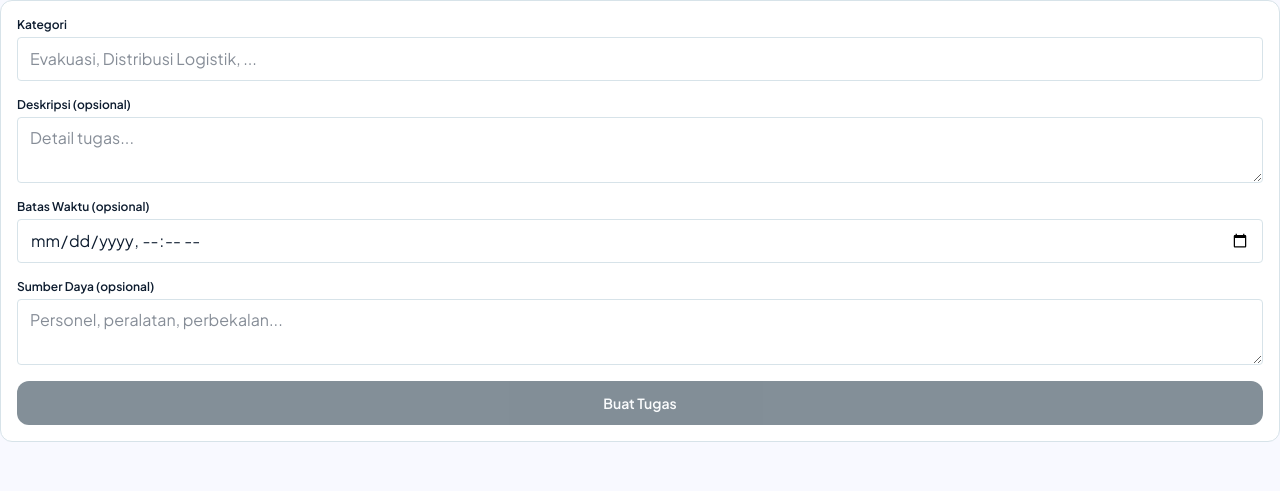
CreateTaskForm › shows a generic error message when the request rejects (network failure)
Type "Evakuasi" into the field with placeholder "Evakuasi, Distribusi Logistik, ...". click: (640, 59)
box: [17,37,1263,81]
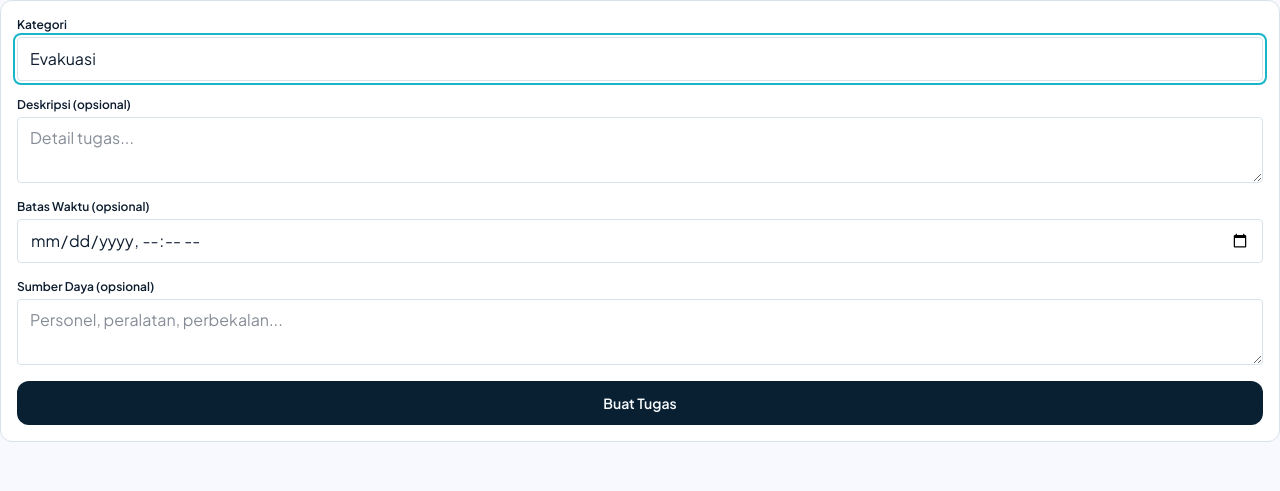
Click the button "Buat Tugas". click: (640, 403)
box: [17,381,1263,425]
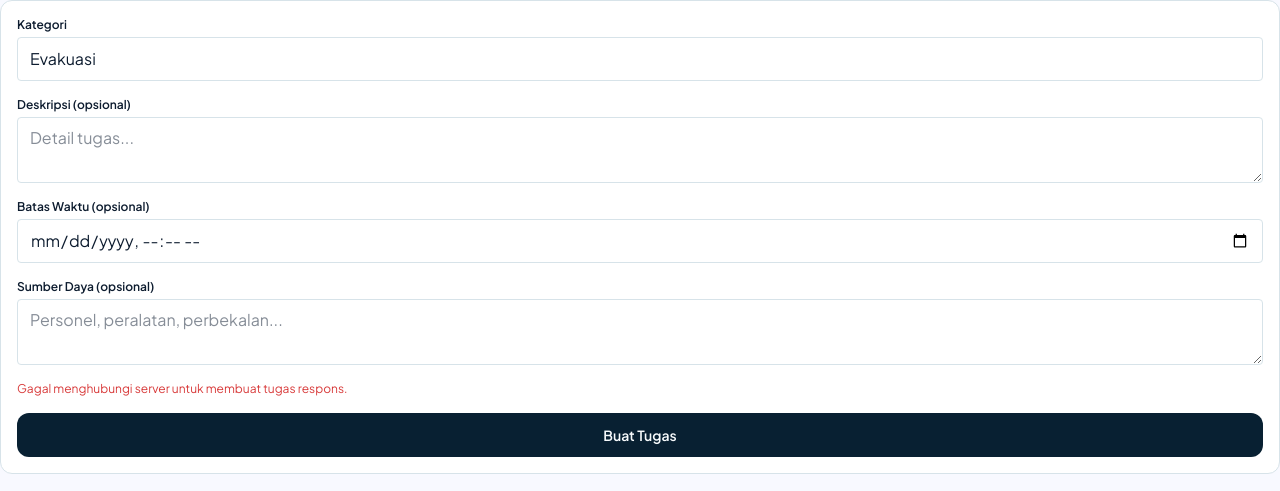
Expected: the text "Gagal menghubungi server untuk membuat tugas respons." is shown, [17,381,348,396]
